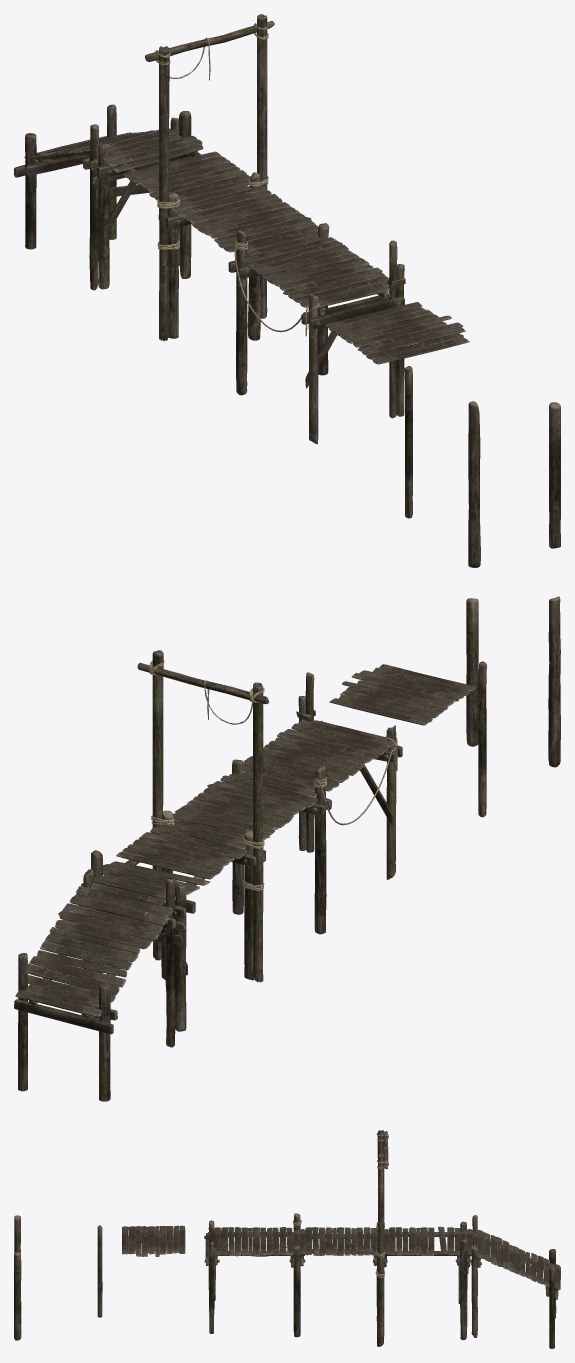
The model's file is modular_wooden_pier.glb.
3 renders of one model, top to bottom at view 1: azimuth 30°, elevation 25°; view 2: azimuth 150°, elevation 25°; view 3: azimuth 270°, elevation 25°, orthographic. The views are drawn at different scales.
Parts seen in each view (by area): view 1: modular_wooden_pier_section_01, modular_wooden_pier_section_03, modular_wooden_pier_section_02, modular_wooden_pier_section_05, modular_wooden_pier_section_04, modular_wooden_pier_planks, modular_wooden_pier_poles; view 2: modular_wooden_pier_section_04, modular_wooden_pier_section_01, modular_wooden_pier_section_03, modular_wooden_pier_section_02, modular_wooden_pier_section_05, modular_wooden_pier_poles, modular_wooden_pier_planks; view 3: modular_wooden_pier_section_01, modular_wooden_pier_section_04, modular_wooden_pier_section_03, modular_wooden_pier_section_02, modular_wooden_pier_planks, modular_wooden_pier_section_05, modular_wooden_pier_poles.
Part boxes in pixels (x1,y1,x2,y2): modular_wooden_pier_section_01: [228, 223, 405, 444]; modular_wooden_pier_section_03: [89, 111, 250, 289]; modular_wooden_pier_section_02: [158, 172, 318, 340]; modular_wooden_pier_section_05: [145, 14, 274, 341]; modular_wooden_pier_section_04: [14, 104, 179, 290]; modular_wooden_pier_planks: [325, 302, 469, 364]; modular_wooden_pier_poles: [404, 366, 560, 567]; modular_wooden_pier_section_04: [14, 868, 175, 1101]; modular_wooden_pier_section_01: [229, 672, 402, 934]; modular_wooden_pier_section_03: [81, 827, 247, 1031]; modular_wooden_pier_section_02: [160, 775, 317, 980]; modular_wooden_pier_section_05: [137, 650, 268, 982]; modular_wooden_pier_poles: [466, 596, 560, 817]; modular_wooden_pier_planks: [329, 664, 476, 725]; modular_wooden_pier_section_01: [204, 1213, 305, 1337]; modular_wooden_pier_section_04: [471, 1215, 560, 1348]; modular_wooden_pier_section_03: [376, 1221, 473, 1340]; modular_wooden_pier_section_02: [292, 1222, 389, 1346]; modular_wooden_pier_planks: [122, 1225, 185, 1256]; modular_wooden_pier_section_05: [375, 1130, 388, 1337]; modular_wooden_pier_poles: [14, 1215, 102, 1340].
Bounding box in the file's own units: 3.1 × 7.52 × 19.03.
Materials: 2 (2 with a texture image).
